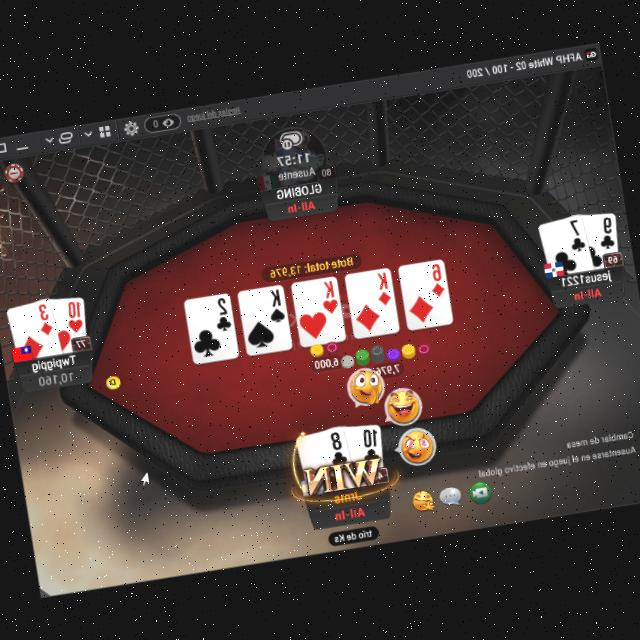2c: (210, 294, 233, 334)
3d: (34, 298, 56, 336)
6d: (424, 260, 448, 298)
7c: (565, 214, 588, 252)
8c: (324, 425, 349, 463), (324, 426, 349, 464)
9c: (594, 212, 617, 250)
Kd: (371, 268, 394, 306)
Kh: (318, 276, 340, 314)
Ks: (264, 284, 288, 322)
Tc: (356, 424, 382, 460)
Td: (62, 296, 86, 334)
all_in_symbol: (332, 501, 366, 521), (284, 195, 316, 214), (571, 283, 602, 299)
bet_text: (312, 352, 343, 368)
dealer: (104, 370, 125, 390)
pot_text: (267, 252, 354, 278)
stack_text: (36, 367, 75, 387)
